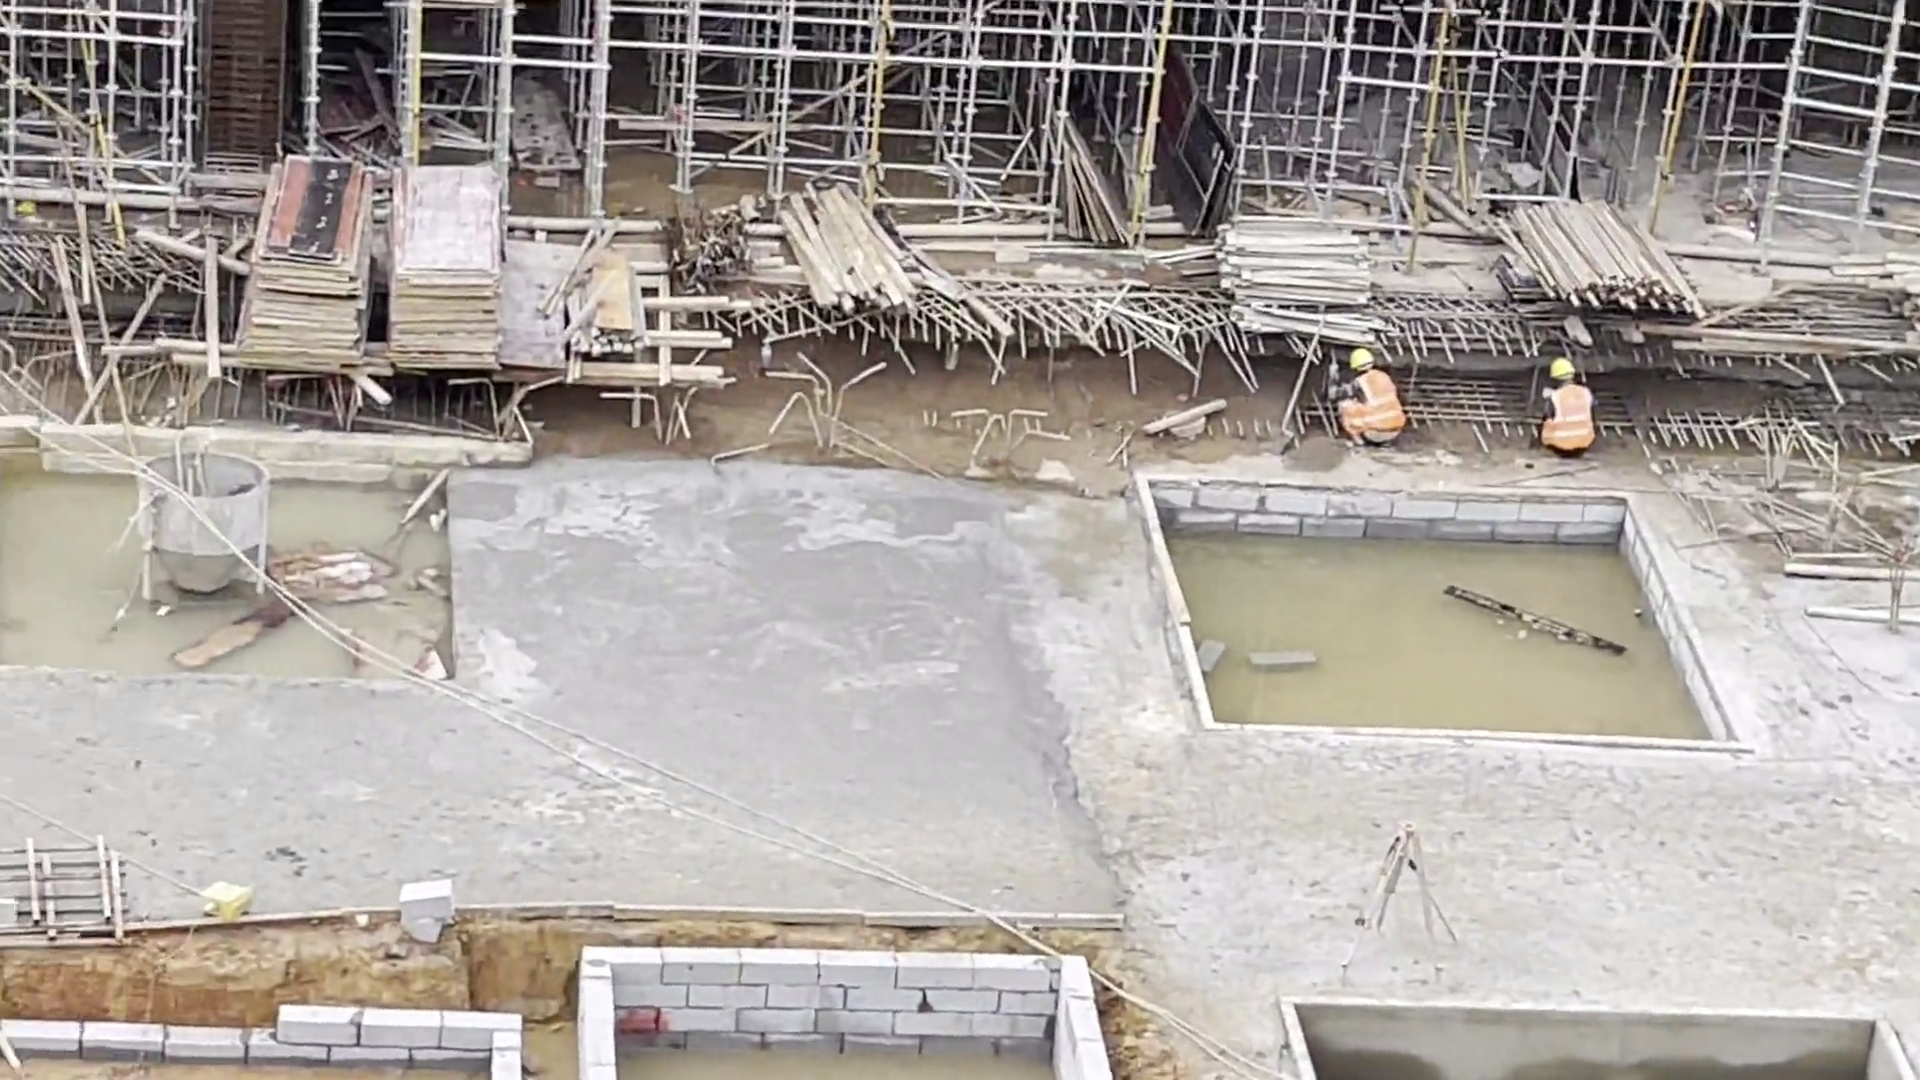board: (231, 156, 515, 376)
helmet: (1547, 360, 1581, 383), (1350, 350, 1378, 371)
person: (1331, 351, 1418, 451), (1533, 357, 1605, 457)
vest: (1338, 372, 1409, 441), (1544, 396, 1600, 453)
wood: (1513, 204, 1710, 322), (1218, 214, 1376, 341), (781, 189, 924, 312)
